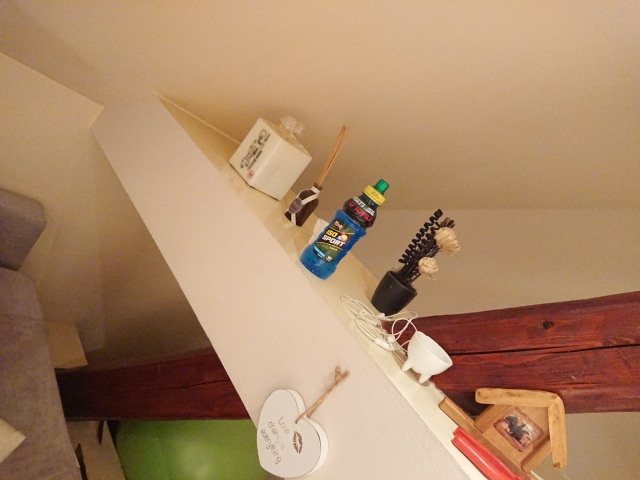Vindi Iso Sport Forest Strawberries 500mL: (298, 177, 391, 281)
